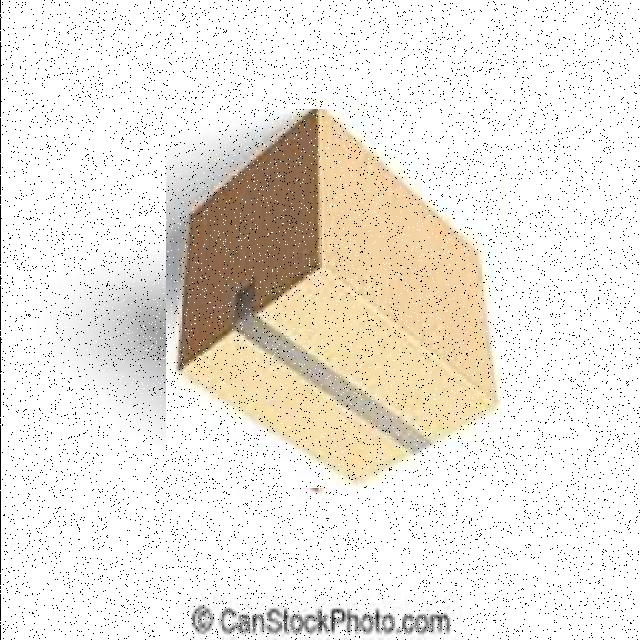normal: (165, 109, 500, 488)
